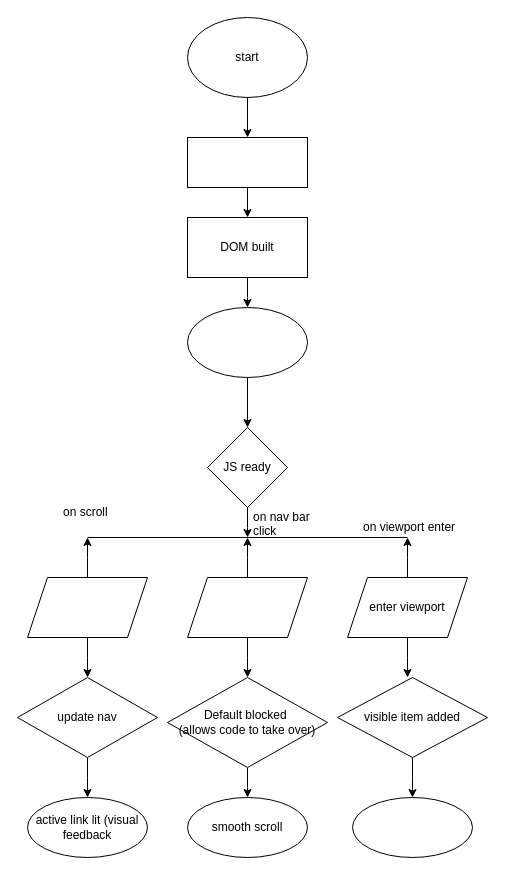
This 505x875 diagram has some shape labels left out. The shapes that lost their labels are listed below. From the top down, each one's box as (x1, y1, x2, y2) in pixels, then its label:
(186, 136, 308, 188): Page loads
(186, 306, 308, 378): CSS cascade makes sections, boxes
(26, 576, 148, 638): User scrolls
(186, 576, 308, 638): User clicks bar tab
(352, 796, 472, 858): fade in item
